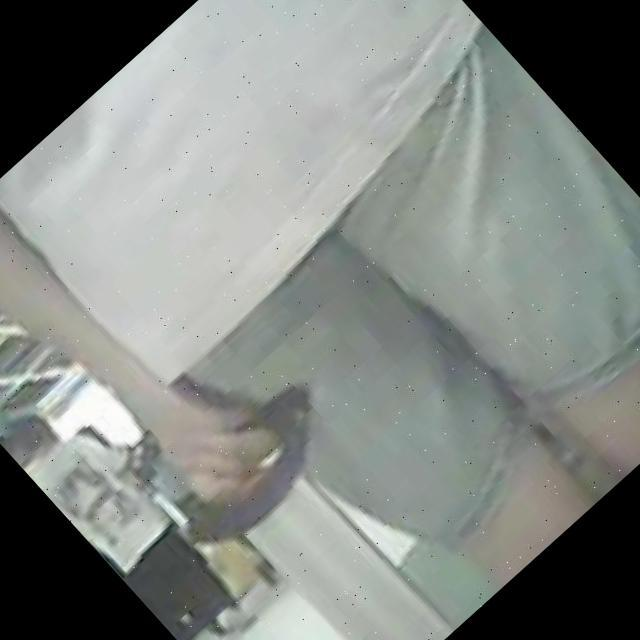person: (0, 0, 640, 640), (0, 360, 278, 640)
